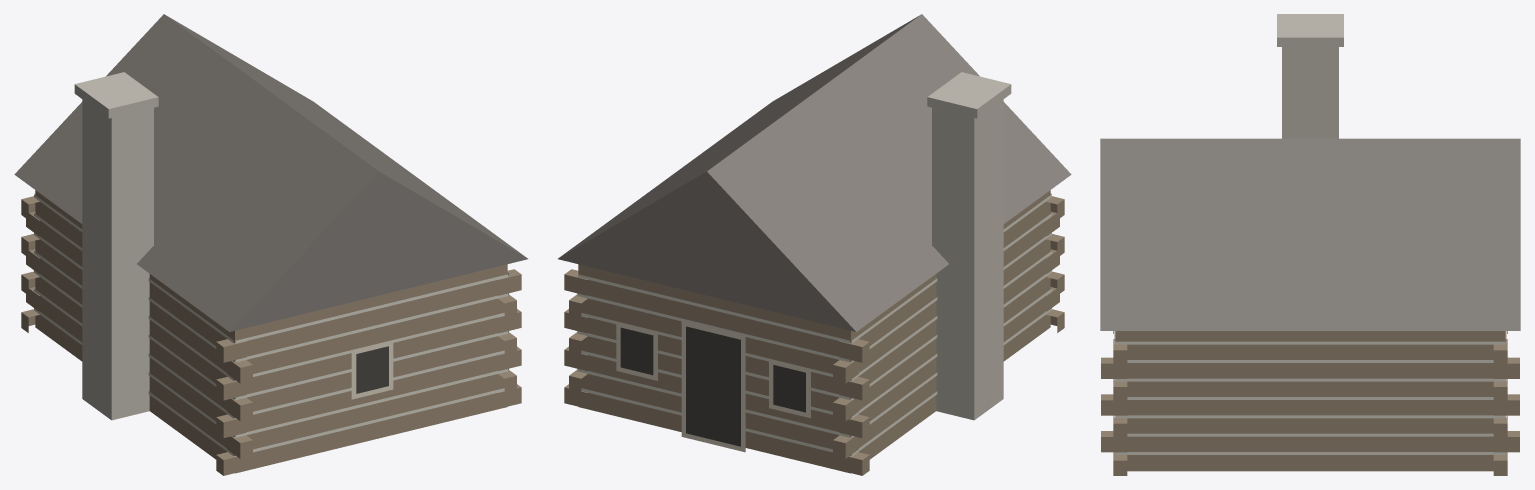
The model's file is recon_1835_blk_randolph_franklin_d1_06__inferred_1835.glb.
3 renders of one model, left to right at view 1: azimuth 30°, elevation 25°; view 2: azimuth 150°, elevation 25°; view 3: azimuth 270°, elevation 25°, orthographic. The views are drawn at different scales.
Visible parts, largest first — view 1: recon_1835_blk_randolph_franklin_d1_06__inferred_1835; view 2: recon_1835_blk_randolph_franklin_d1_06__inferred_1835; view 3: recon_1835_blk_randolph_franklin_d1_06__inferred_1835.
Boxes of the visible parts, x1,y1,x2,y2 form: recon_1835_blk_randolph_franklin_d1_06__inferred_1835: (14,14,527,475); recon_1835_blk_randolph_franklin_d1_06__inferred_1835: (558,14,1071,475); recon_1835_blk_randolph_franklin_d1_06__inferred_1835: (1100,14,1520,475).
Size of the model in its own units: 6.22 by 5.74 by 7.04.
